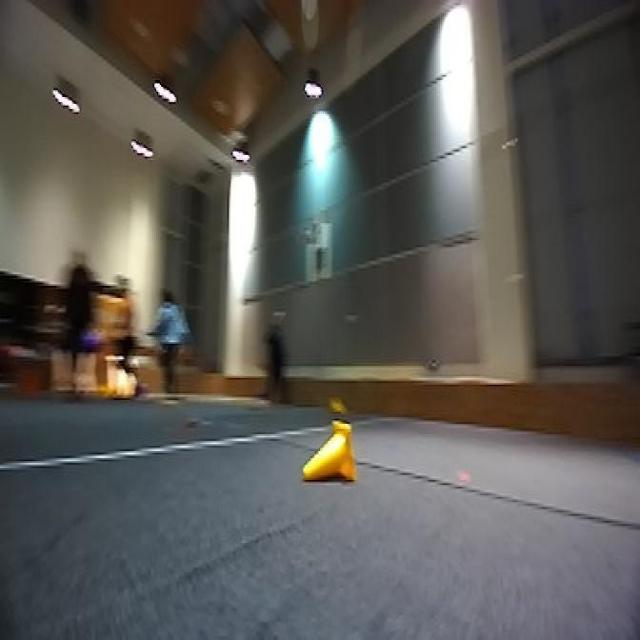frc_cone: (302, 419, 356, 490), (327, 394, 352, 421)
frc_cube: (77, 325, 97, 358)
